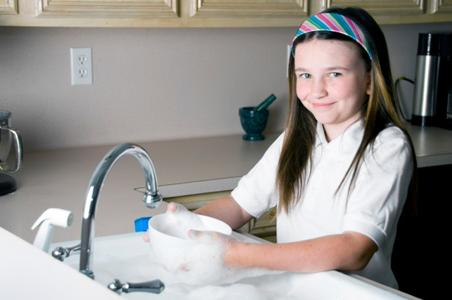person: (144, 6, 418, 292)
